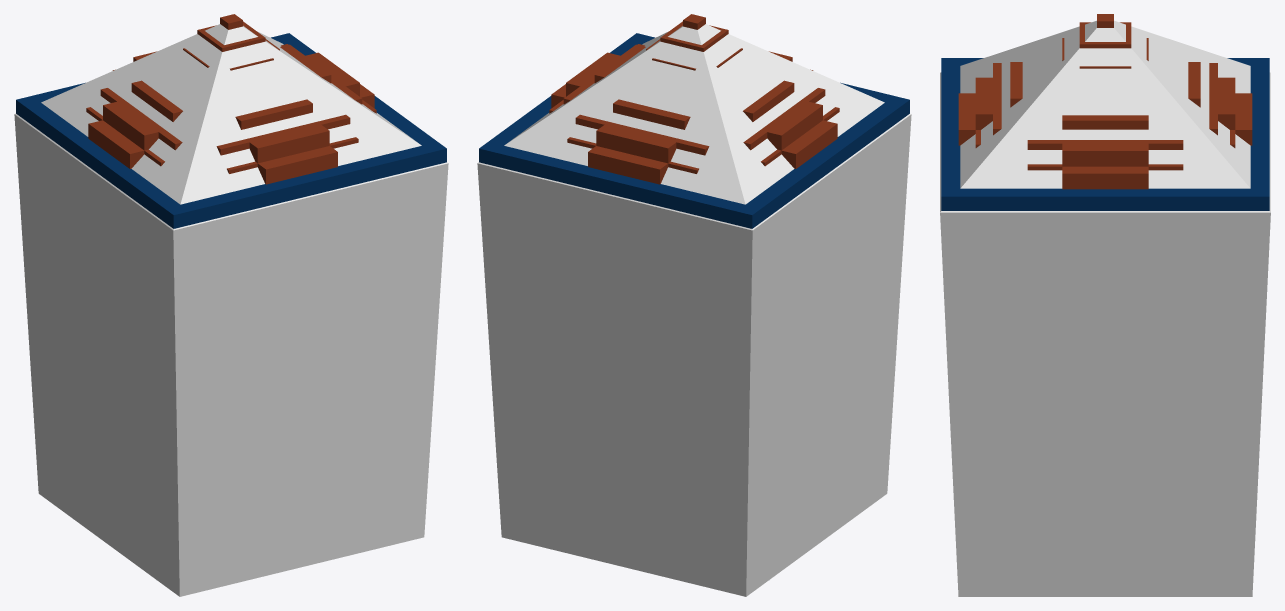
File: Kiosk1_B2_1_01.FBX
The picture shows the model from 3 angles, left to right: view 1: azimuth 30°, elevation 25°; view 2: azimuth 150°, elevation 25°; view 3: azimuth 270°, elevation 25°; orthographic projection. The views are drawn at different scales.
Visible parts, largest first — view 1: Kiosk1_B2_Damage_1_01, Kiosk1_B2_Live_1_01; view 2: Kiosk1_B2_Damage_1_01, Kiosk1_B2_Live_1_01; view 3: Kiosk1_B2_Damage_1_01, Kiosk1_B2_Live_1_01.
Part boxes in pixels (<box>): Kiosk1_B2_Damage_1_01: <box>14,24,448,596</box>; Kiosk1_B2_Live_1_01: <box>16,14,446,228</box>; Kiosk1_B2_Damage_1_01: <box>477,24,911,596</box>; Kiosk1_B2_Live_1_01: <box>479,14,909,228</box>; Kiosk1_B2_Damage_1_01: <box>940,20,1270,596</box>; Kiosk1_B2_Live_1_01: <box>941,14,1269,210</box>.
Size of the model in its own units: 2.87 by 4.95 by 2.87.
